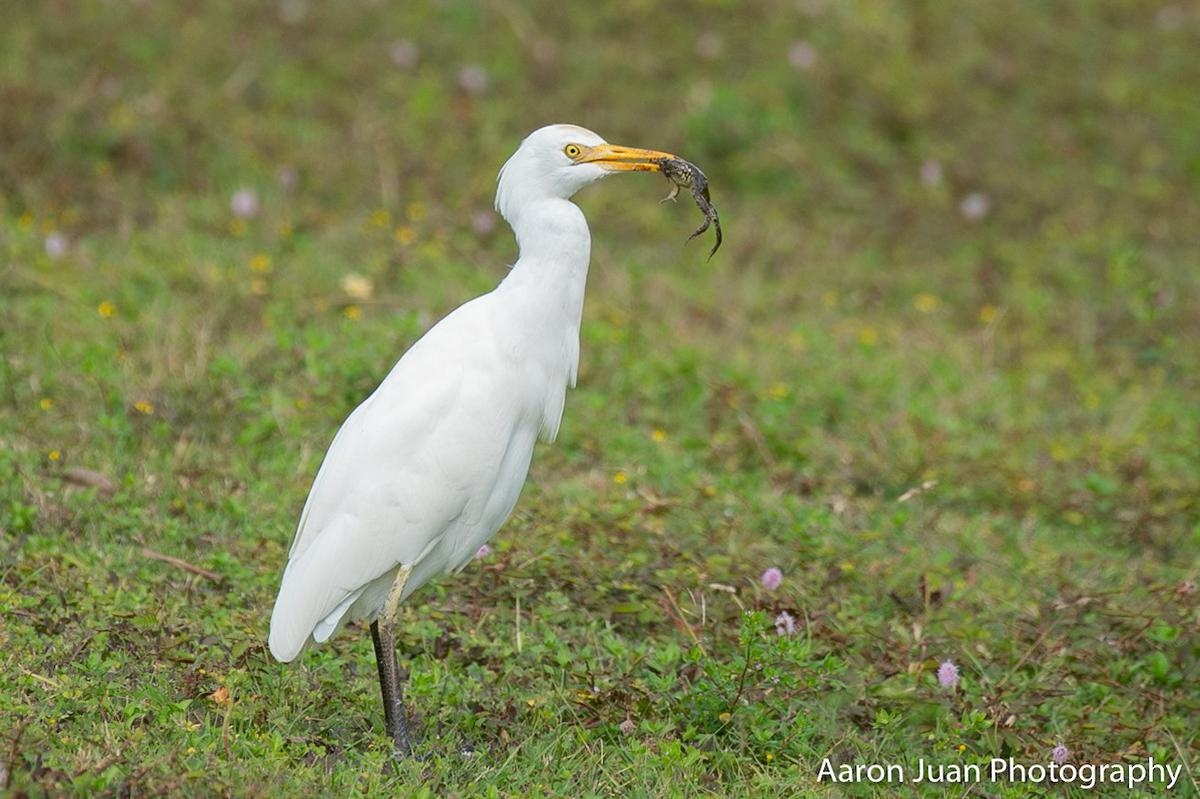egret: (267, 116, 697, 730)
